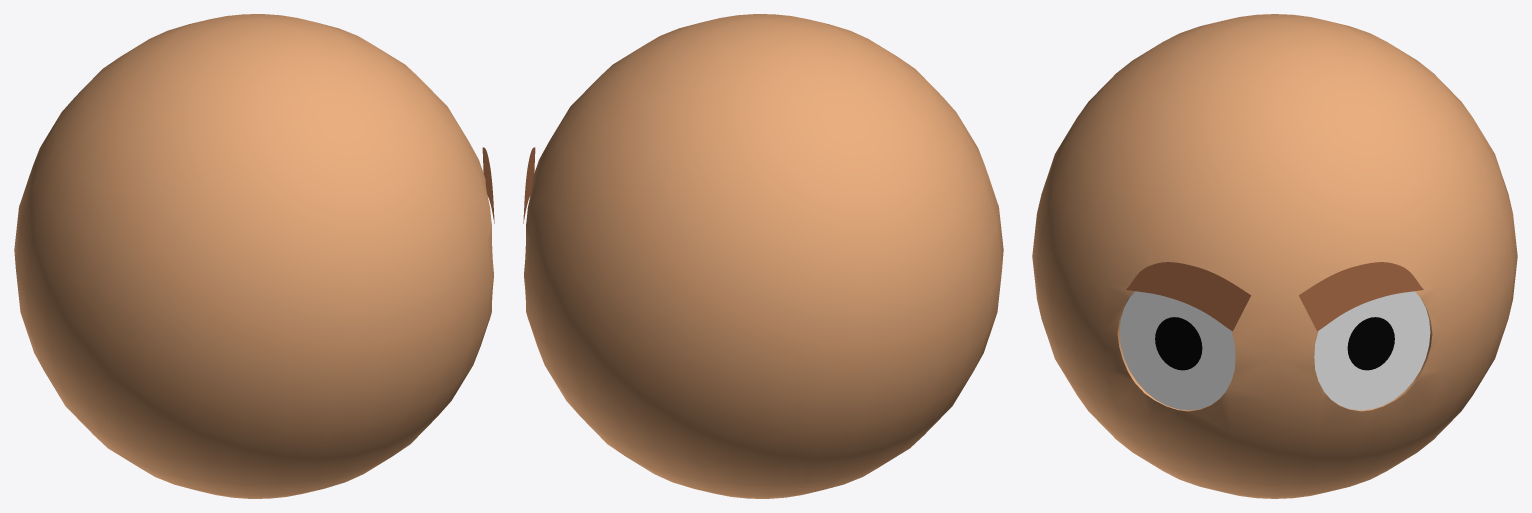
File: ANNOYED.fbx
3 renders of one model, left to right at view 1: azimuth 30°, elevation 25°; view 2: azimuth 150°, elevation 25°; view 3: azimuth 270°, elevation 25°, orthographic.
Visible parts, largest first — view 1: Sphere.001; view 2: Sphere.001; view 3: Sphere.001, Cylinder, Cylinder.001, Cylinder.003, BézierCurve.002, BézierCurve.001, Cylinder.002.
Part boxes in pixels (<box>): Sphere.001: <box>14,14,493,498</box>; Sphere.001: <box>524,14,1003,498</box>; Sphere.001: <box>1032,14,1517,498</box>; Cylinder: <box>1119,291,1235,409</box>; Cylinder.001: <box>1314,291,1430,408</box>; Cylinder.003: <box>1314,304,1430,410</box>; BézierCurve.002: <box>1126,262,1250,331</box>; BézierCurve.001: <box>1299,262,1423,331</box>; Cylinder.002: <box>1119,296,1234,410</box>.
Size of the model in its own units: 25.23 by 25 by 25.
